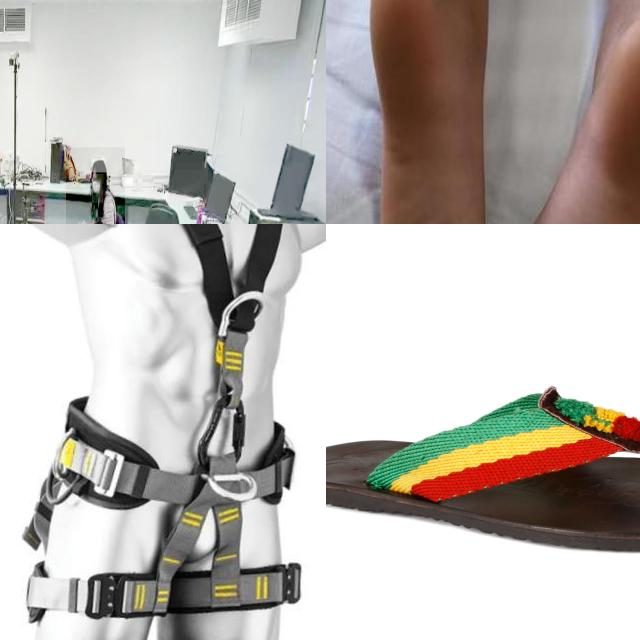Barefoots: (485, 0, 640, 224), (362, 0, 493, 224)
Harness: (24, 224, 294, 618)
Sandals: (326, 384, 640, 554)
face_mask: (92, 174, 104, 203)
head_nohelmet: (92, 158, 106, 173)
person: (66, 147, 125, 224)
